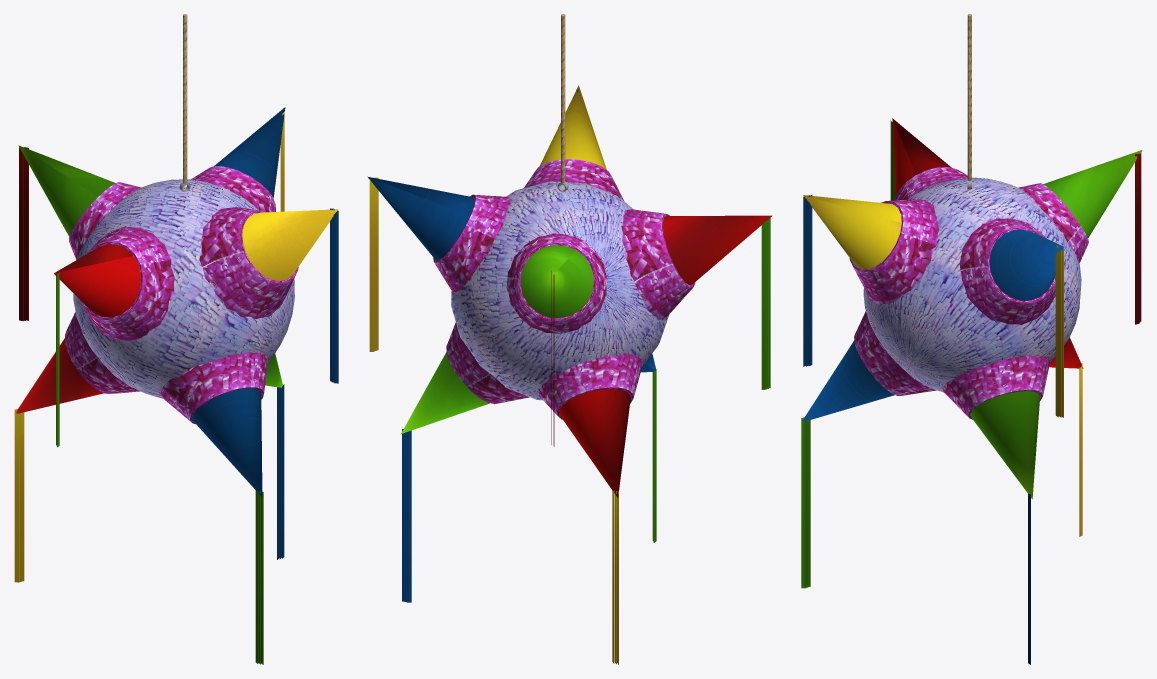
File: pinata.obj
The picture shows the model from 3 angles, left to right: view 1: azimuth 30°, elevation 25°; view 2: azimuth 150°, elevation 25°; view 3: azimuth 270°, elevation 25°; orthographic projection.
Visible parts, largest first — view 1: polySurface42 polySurface41, polySurface41 polySurface46, polySurface41 polySurface48, polySurface41 polySurface45, polySurface41 polySurface51, polySurface41 polySurface47, polySurface41 polySurface52, polySurface41 polySurface49, polySurface41 polySurface43, polySurface41 polySurface55, polySurface41 polySurface56, pasted__group10 group16 pasted__pasted__pasted__pCube1 pasted__p (+14 smaller); view 2: polySurface42 polySurface41, polySurface41 polySurface48, polySurface41 polySurface55, polySurface41 polySurface47, polySurface41 polySurface43, polySurface41 polySurface49, polySurface41 polySurface50, polySurface41 polySurface44, polySurface41 polySurface56, polySurface41 polySurface53, polySurface41 polySurface45, polySurface41 polySurface54 (+7 smaller); view 3: polySurface42 polySurface41, polySurface41 polySurface46, polySurface41 polySurface44, polySurface41 polySurface45, polySurface41 polySurface53, polySurface41 polySurface43, polySurface41 polySurface54, polySurface41 polySurface49, polySurface41 polySurface51, polySurface41 polySurface52, polySurface41 polySurface47, polySurface41 polySurface50 (+12 smaller).
Boxes of the visible parts, left/top/right/bottom form: polySurface42 polySurface41: left=73, top=179, right=294, bottom=398; polySurface41 polySurface46: left=199, top=207, right=298, bottom=318; polySurface41 polySurface48: left=80, top=226, right=174, bottom=341; polySurface41 polySurface45: left=242, top=209, right=338, bottom=281; polySurface41 polySurface51: left=192, top=388, right=262, bottom=496; polySurface41 polySurface47: left=54, top=244, right=140, bottom=317; polySurface41 polySurface52: left=158, top=352, right=268, bottom=424; polySurface41 polySurface49: left=18, top=145, right=115, bottom=236; polySurface41 polySurface43: left=214, top=107, right=285, bottom=197; polySurface41 polySurface55: left=16, top=338, right=103, bottom=413; polySurface41 polySurface56: left=65, top=312, right=139, bottom=393; pasted__group10 group16 pasted__pasted__pasted__pCube1 pasted__p: left=14, top=409, right=24, bottom=582; polySurface42 polySurface41: left=451, top=181, right=668, bottom=400; polySurface41 polySurface48: left=621, top=209, right=695, bottom=319; polySurface41 polySurface55: left=559, top=388, right=630, bottom=497; polySurface41 polySurface47: left=663, top=215, right=772, bottom=284; polySurface41 polySurface43: left=367, top=176, right=474, bottom=260; polySurface41 polySurface49: left=520, top=245, right=593, bottom=318; polySurface41 polySurface50: left=506, top=233, right=607, bottom=333; polySurface41 polySurface44: left=433, top=194, right=510, bottom=292; polySurface41 polySurface56: left=538, top=353, right=642, bottom=419; polySurface41 polySurface53: left=401, top=352, right=489, bottom=433; polySurface41 polySurface45: left=539, top=85, right=606, bottom=169; polySurface41 polySurface54: left=446, top=322, right=529, bottom=404; polySurface42 polySurface41: left=863, top=177, right=1081, bottom=392; polySurface41 polySurface46: left=849, top=199, right=939, bottom=304; polySurface41 polySurface44: left=959, top=218, right=1055, bottom=324; polySurface41 polySurface45: left=803, top=195, right=901, bottom=269; polySurface41 polySurface53: left=970, top=391, right=1039, bottom=499; polySurface41 polySurface43: left=989, top=230, right=1063, bottom=300; polySurface41 polySurface54: left=942, top=355, right=1049, bottom=419; polySurface41 polySurface49: left=1044, top=150, right=1142, bottom=238; polySurface41 polySurface51: left=803, top=340, right=894, bottom=421; polySurface41 polySurface52: left=854, top=311, right=936, bottom=395; polySurface41 polySurface47: left=892, top=118, right=951, bottom=196; polySurface41 polySurface50: left=1018, top=183, right=1088, bottom=263.
Size of the model in its own units: 3.31 by 5.92 by 3.12.
23 materials, 23 textured.
